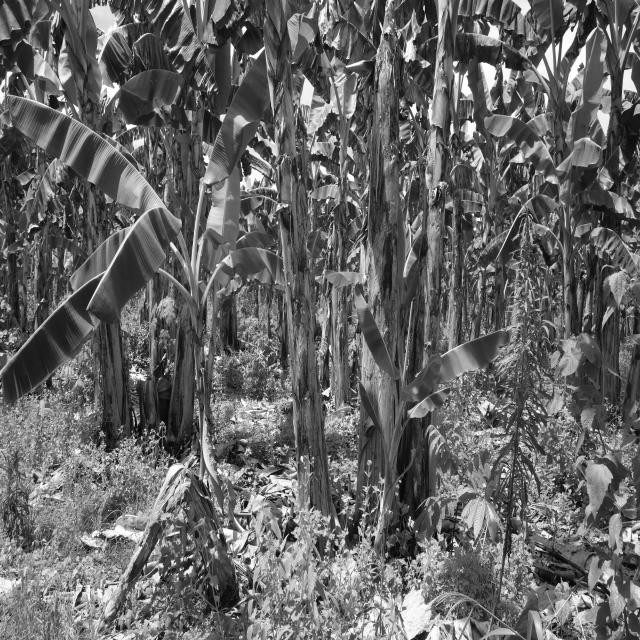Banana-plant: (256, 10, 330, 548), (400, 0, 464, 546), (68, 30, 124, 444), (366, 20, 398, 557), (594, 33, 624, 427)
